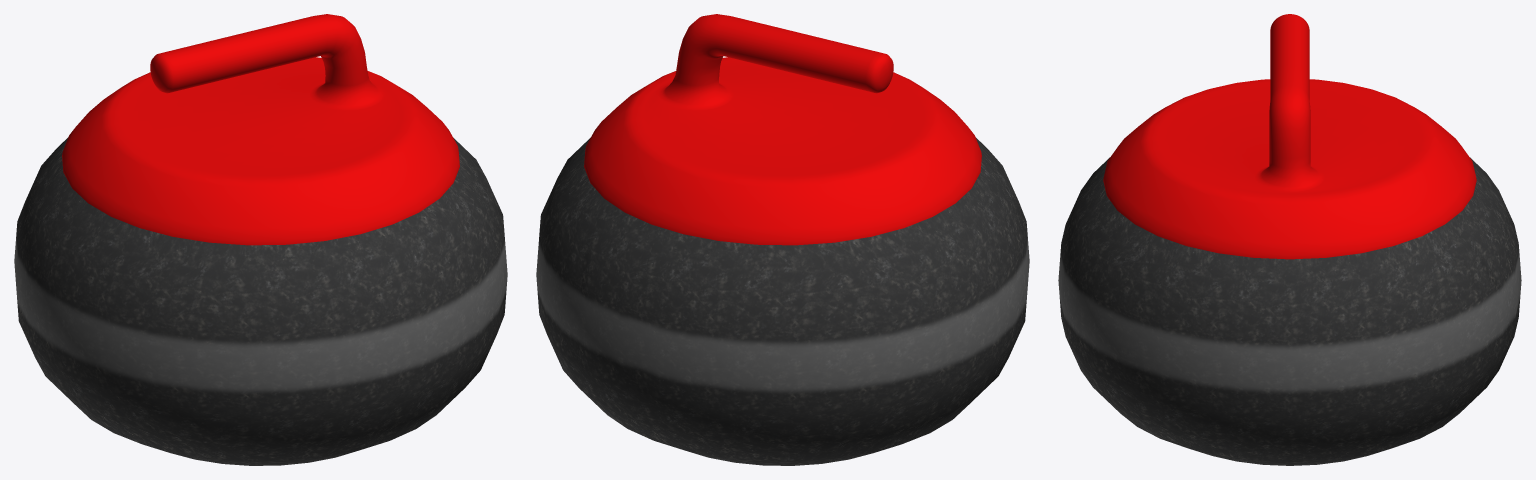
File: O_prop.glb
3 renders of one model, left to right at view 1: azimuth 30°, elevation 25°; view 2: azimuth 150°, elevation 25°; view 3: azimuth 270°, elevation 25°, orthographic. The views are drawn at different scales.
Parts seen in each view (by area): view 1: curling_Stone_Low_Poly, Lid_low_poly; view 2: curling_Stone_Low_Poly, Lid_low_poly; view 3: curling_Stone_Low_Poly, Lid_low_poly.
Part boxes in pixels (bbox=[...]): curling_Stone_Low_Poly: bbox=[14, 138, 507, 465]; Lid_low_poly: bbox=[62, 14, 459, 245]; curling_Stone_Low_Poly: bbox=[536, 138, 1029, 465]; Lid_low_poly: bbox=[584, 14, 981, 245]; curling_Stone_Low_Poly: bbox=[1058, 157, 1521, 465]; Lid_low_poly: bbox=[1103, 14, 1476, 259].
Bounding box in the file's own units: 3.32 × 2.75 × 3.32.
Materials: 2 (2 with a texture image).
